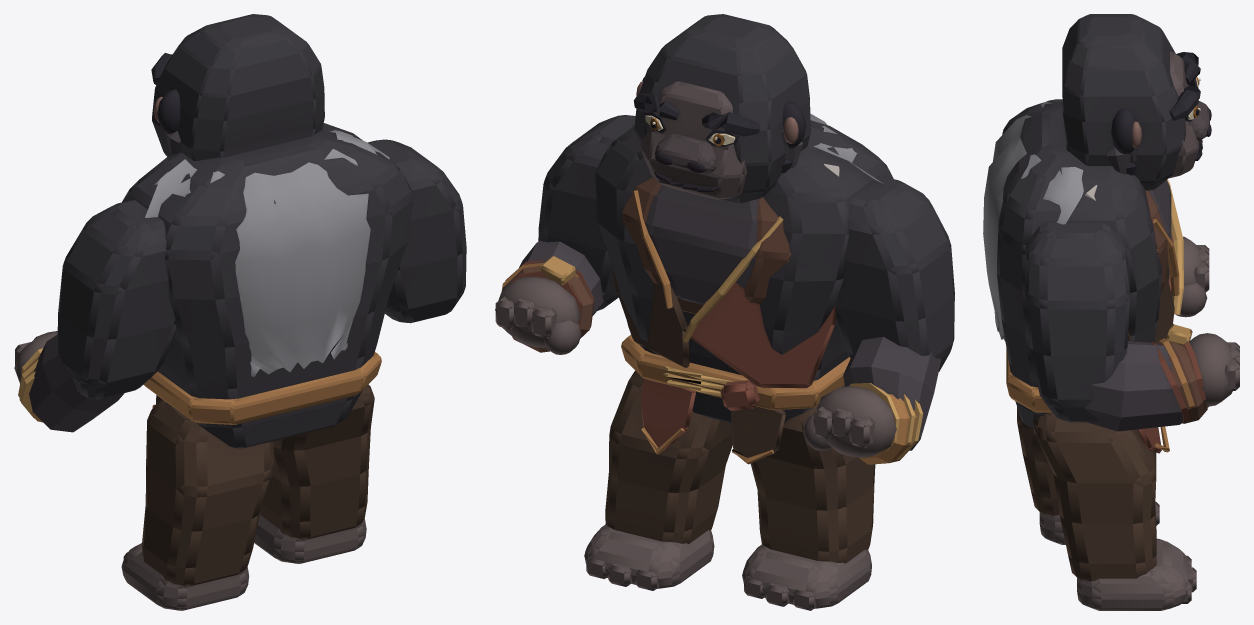
File: Silverback_Gorilla.glb
The picture shows the model from 3 angles, left to right: view 1: azimuth 30°, elevation 25°; view 2: azimuth 150°, elevation 25°; view 3: azimuth 270°, elevation 25°; orthographic projection. The views are drawn at different scales.
Visible parts, largest first — view 1: Torso_Shell, Left_Arm_Shell, Left_Leg_Shell, Head_Shell, Right_Leg_Shell, Right_Arm_Shell; view 2: Torso_Shell, Left_Arm_Shell, Head_Shell, Right_Leg_Shell, Left_Leg_Shell, Right_Arm_Shell; view 3: Right_Arm_Shell, Torso_Shell, Head_Shell, Right_Leg_Shell, Left_Leg_Shell, Left_Arm_Shell.
Boxes of the visible parts, x1,y1,x2,y2 form: Torso_Shell: [122, 123, 412, 448]; Left_Arm_Shell: [14, 200, 176, 432]; Left_Leg_Shell: [121, 399, 273, 610]; Head_Shell: [151, 14, 324, 160]; Right_Leg_Shell: [254, 384, 374, 563]; Right_Arm_Shell: [367, 139, 466, 323]; Torso_Shell: [595, 113, 893, 464]; Left_Arm_Shell: [803, 176, 954, 464]; Head_Shell: [633, 14, 810, 202]; Right_Leg_Shell: [584, 370, 732, 590]; Left_Leg_Shell: [742, 385, 875, 610]; Right_Arm_Shell: [495, 115, 635, 354]; Right_Arm_Shell: [1025, 222, 1239, 431]; Torso_Shell: [983, 101, 1183, 453]; Head_Shell: [1062, 14, 1211, 190]; Right_Leg_Shell: [1033, 412, 1196, 610]; Left_Leg_Shell: [1017, 407, 1159, 544]; Left_Arm_Shell: [1045, 99, 1209, 317].
Bounding box in the file's own units: 4.4 × 5.62 × 2.45.
Materials: 1 (1 with a texture image).
